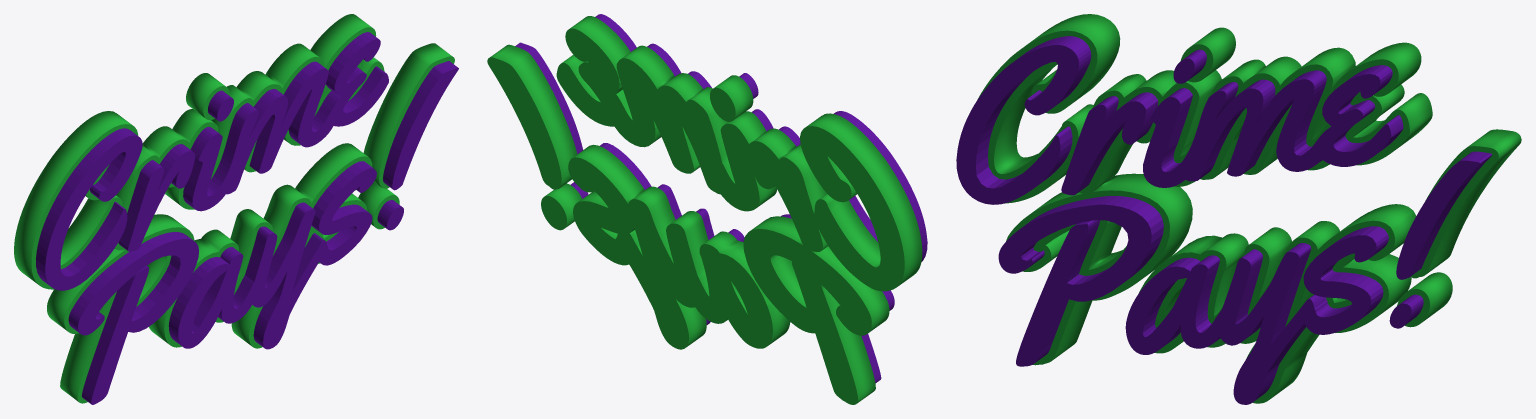
Rendered from CrimePays.glb.
3 renders of one model, left to right at view 1: azimuth 30°, elevation 25°; view 2: azimuth 150°, elevation 25°; view 3: azimuth 330°, elevation 25°, orthographic. The views are drawn at different scales.
Parts seen in each view (by area): view 1: Curve.014, Curve.010, Curve.008, Curve.009, Curve.005, Curve.015, Curve.017, Curve.006, Curve.012, Curve.013, Curve.016, Curve.011 (+1 smaller); view 2: Curve.014, Curve.015, Curve.017, Curve.005, Curve.013, Curve.016, Curve.010, Curve.008, Curve.012, Curve.009; view 3: Curve.014, Curve.010, Curve.008, Curve.015, Curve.009, Curve.005, Curve.006, Curve.017, Curve.012, Curve.016, Curve.013, Curve.011 (+1 smaller).
Part boxes in pixels (x1=…): Curve.014: x1=14, y1=14, x2=384, y2=403; Curve.010: x1=168, y1=161, x2=376, y2=349; Curve.008: x1=183, y1=32, x2=388, y2=211; Curve.009: x1=68, y1=232, x2=198, y2=404; Curve.005: x1=36, y1=128, x2=142, y2=290; Curve.015: x1=149, y1=143, x2=372, y2=348; Curve.017: x1=363, y1=43, x2=454, y2=188; Curve.006: x1=118, y1=144, x2=195, y2=251; Curve.012: x1=383, y1=61, x2=458, y2=190; Curve.013: x1=186, y1=73, x2=229, y2=120; Curve.016: x1=358, y1=182, x2=399, y2=229; Curve.011: x1=377, y1=200, x2=403, y2=230; Curve.014: x1=556, y1=16, x2=922, y2=404; Curve.015: x1=568, y1=144, x2=790, y2=349; Curve.017: x1=487, y1=44, x2=577, y2=189; Curve.005: x1=833, y1=111, x2=927, y2=261; Curve.013: x1=710, y1=75, x2=753, y2=121; Curve.016: x1=541, y1=183, x2=582, y2=230; Curve.010: x1=600, y1=143, x2=744, y2=324; Curve.008: x1=595, y1=14, x2=773, y2=130; Curve.012: x1=515, y1=42, x2=582, y2=153; Curve.009: x1=780, y1=214, x2=894, y2=383; Curve.014: x1=977, y1=14, x2=1432, y2=365; Curve.010: x1=1125, y1=226, x2=1388, y2=404; Curve.008: x1=1143, y1=65, x2=1403, y2=187; Curve.015: x1=1139, y1=204, x2=1416, y2=403; Curve.009: x1=998, y1=196, x2=1163, y2=366; Curve.005: x1=956, y1=36, x2=1091, y2=204; Curve.006: x1=1061, y1=92, x2=1158, y2=195; Curve.017: x1=1411, y1=129, x2=1521, y2=278; Curve.012: x1=1396, y1=151, x2=1491, y2=279; Curve.016: x1=1397, y1=272, x2=1452, y2=327; Curve.013: x1=1180, y1=27, x2=1235, y2=82; Curve.011: x1=1389, y1=294, x2=1423, y2=328.
Bounding box in the file's own units: 9.2 × 6.44 × 1.1.
